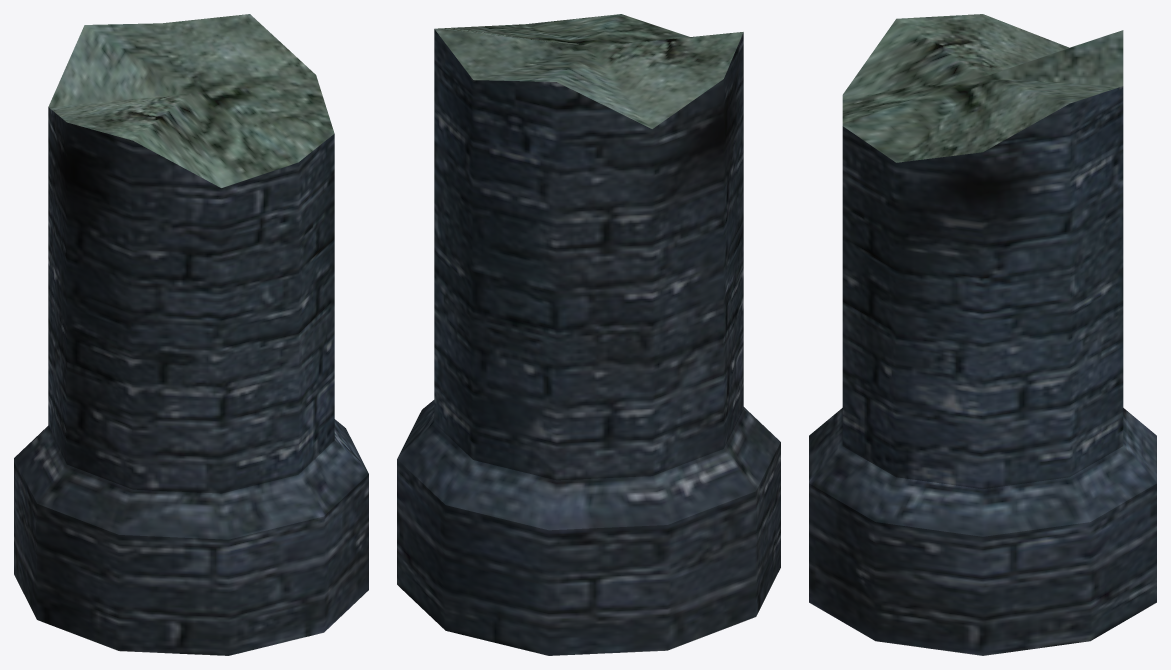
The picture shows the model from 3 angles, left to right: view 1: azimuth 30°, elevation 25°; view 2: azimuth 150°, elevation 25°; view 3: azimuth 270°, elevation 25°; orthographic projection. The views are drawn at different scales.
Visible parts, largest first — view 1: xs_wj23; view 2: xs_wj23; view 3: xs_wj23.
Boxes of the visible parts, x1,y1,x2,y2 form: xs_wj23: (14,14,368,655); xs_wj23: (397,14,780,655); xs_wj23: (809,14,1156,655).
Size of the model in its own units: 647 by 1033 by 615.
